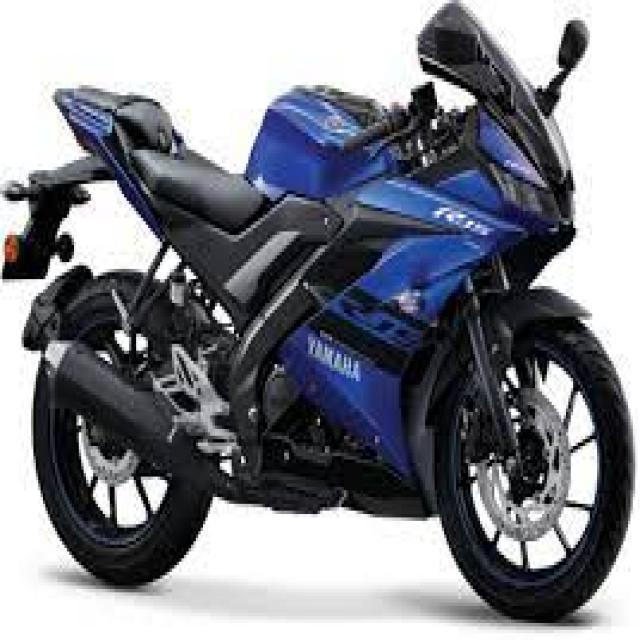MOTORCYCLE: (18, 22, 637, 602)
